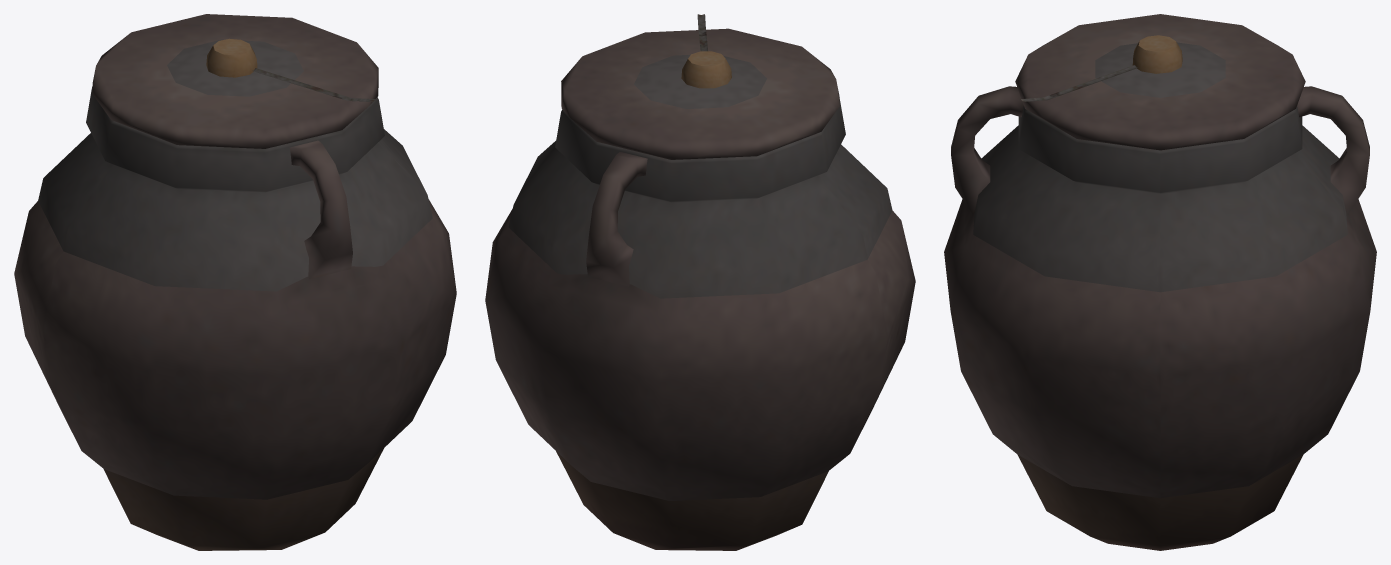
Rendered from pot.fbx.
The picture shows the model from 3 angles, left to right: view 1: azimuth 30°, elevation 25°; view 2: azimuth 150°, elevation 25°; view 3: azimuth 270°, elevation 25°; orthographic projection. The views are drawn at different scales.
Parts seen in each view (by area): view 1: pot_Mesh_003, pot_Mesh_001, pot_Mesh_002; view 2: pot_Mesh_003, pot_Mesh_001, pot_Mesh_002; view 3: pot_Mesh_003, pot_Mesh_001, pot_Mesh_002.
Boxes of the visible parts, bbox=[...] form: pot_Mesh_003: bbox=[14, 14, 456, 499]; pot_Mesh_001: bbox=[38, 39, 432, 291]; pot_Mesh_002: bbox=[103, 448, 383, 550]; pot_Mesh_003: bbox=[485, 14, 915, 500]; pot_Mesh_001: bbox=[508, 54, 892, 298]; pot_Mesh_002: bbox=[556, 451, 828, 550]; pot_Mesh_003: bbox=[944, 14, 1376, 498]; pot_Mesh_001: bbox=[973, 42, 1347, 292]; pot_Mesh_002: bbox=[1017, 454, 1303, 550].
Size of the model in its own units: 57.03 by 66.69 by 55.94.
